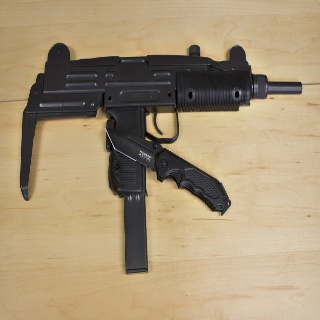rifle: (16, 39, 306, 277)
